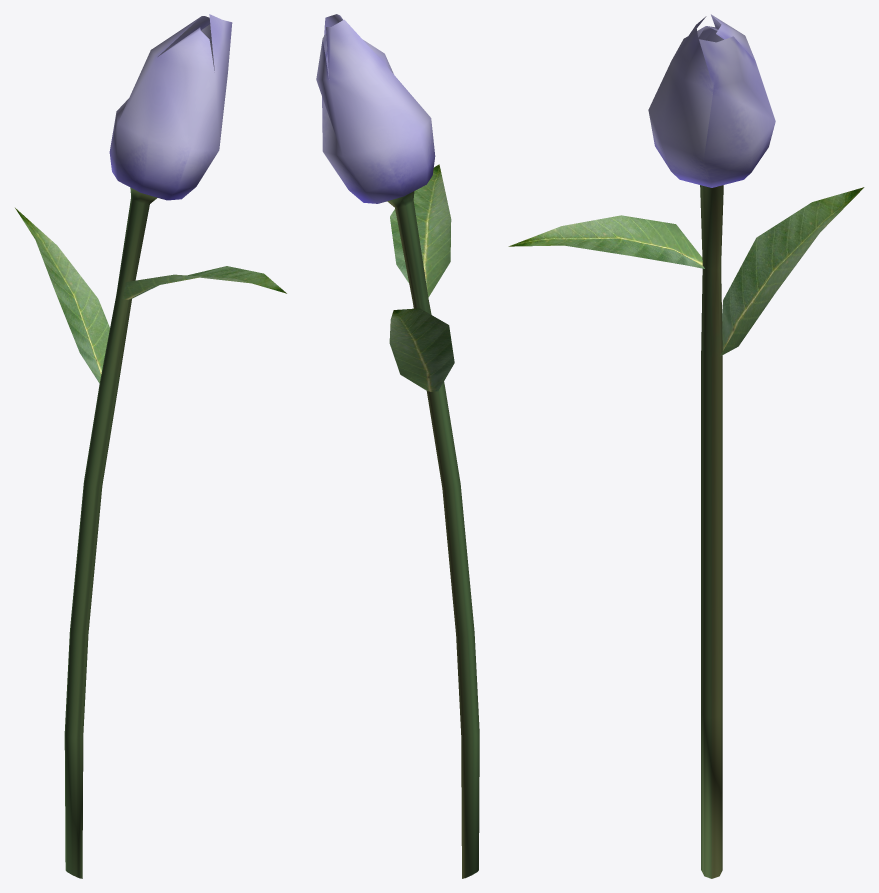
File: flower_A_c02.fbx
3 views of the same model, side by side, from view 1: azimuth 30°, elevation 25°; view 2: azimuth 150°, elevation 25°; view 3: azimuth 270°, elevation 25° (orthographic). The views are drawn at different scales.
Visible parts, largest first — view 1: flowerA_c2; view 2: flowerA_c2; view 3: flowerA_c2.
Part boxes in pixels (left/top/right/bottom): flowerA_c2: left=15, top=14, right=286, bottom=878; flowerA_c2: left=316, top=14, right=479, bottom=878; flowerA_c2: left=508, top=14, right=864, bottom=878.
Size of the model in its own units: 6.24 by 30.99 by 10.75.
